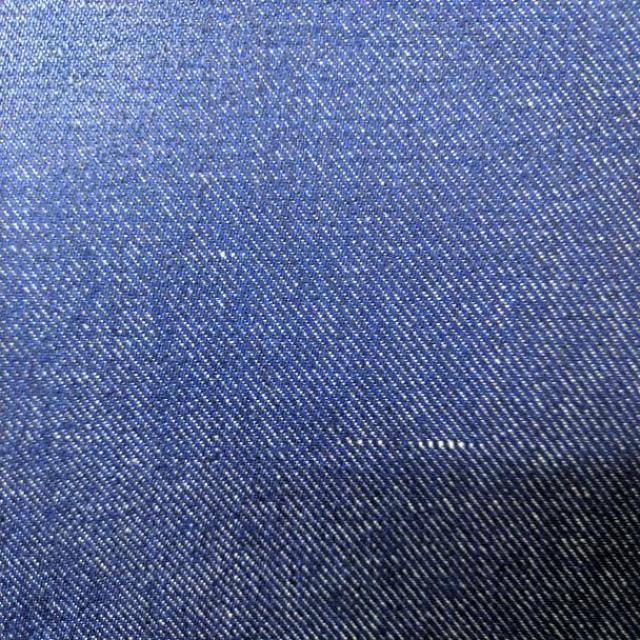Knot: (402, 439, 477, 452), (218, 249, 245, 260)
